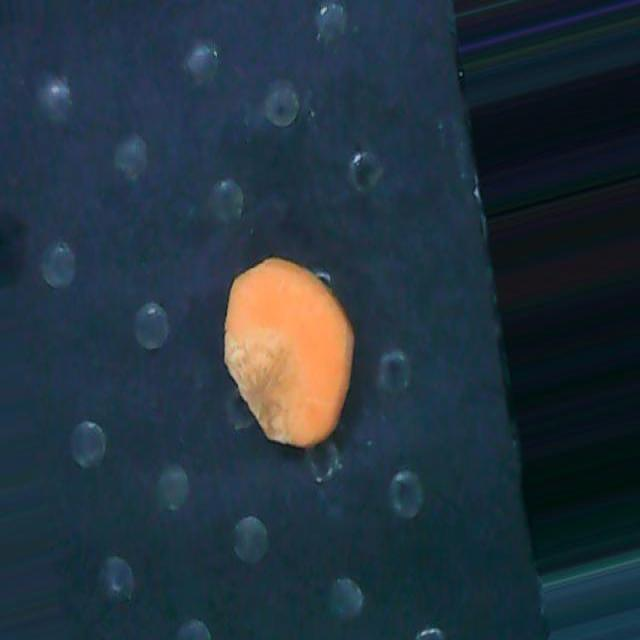-Kitchen waste - carrot-: (213, 244, 368, 468)
